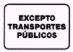Indicadores de aplicacao: (3, 3, 71, 50)
